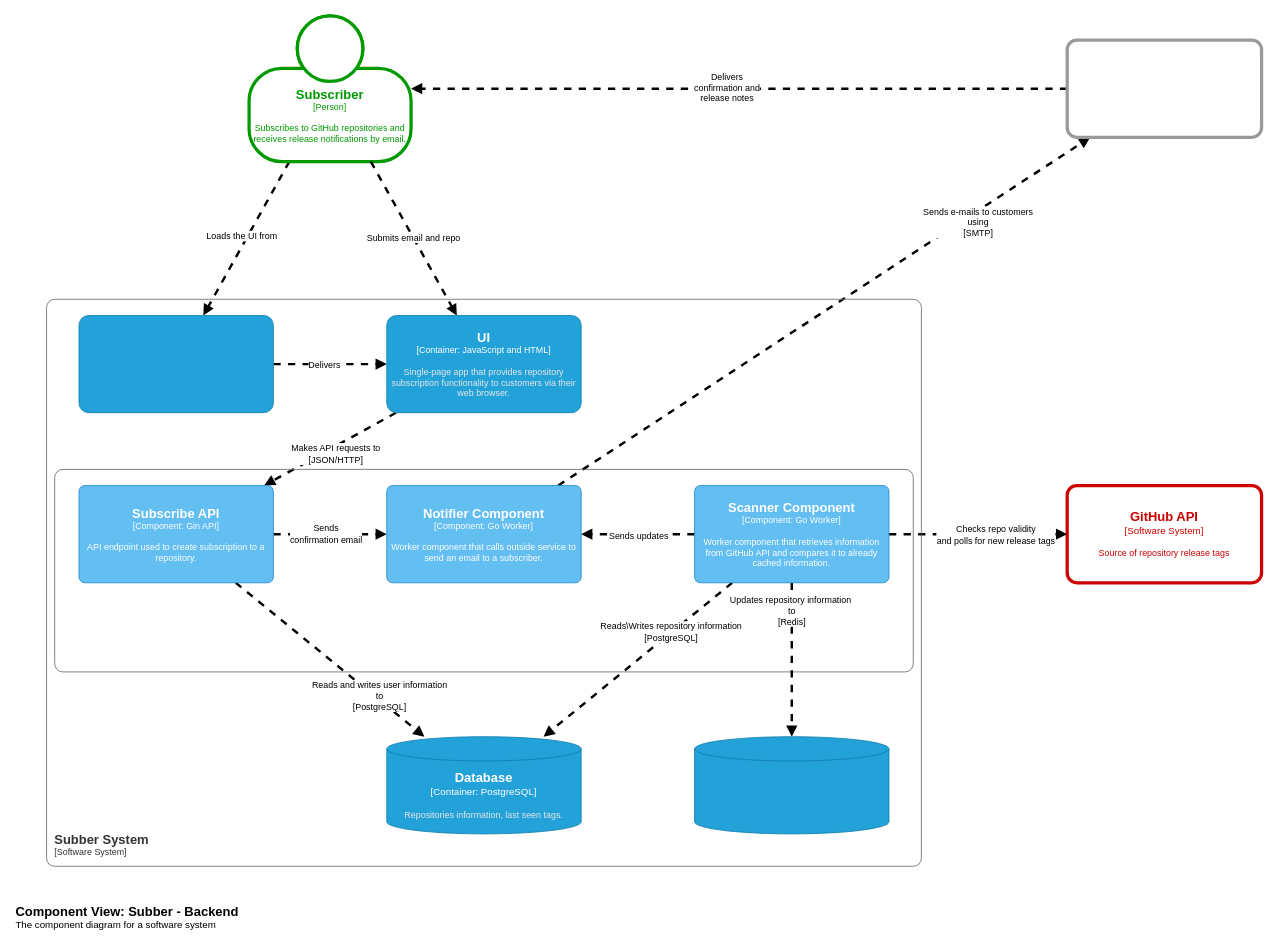
Some shapes in this 1277 by 945 pixel diagram are drawn without their labels. The shapes that lost their labels are listed below. From the top down, each one's box as (x1, y1, x2, y2) in pixels, then its label:
(1065, 38, 1263, 139): SMTP Server [Software System] Delivers emails to subscribers
(78, 315, 273, 413): Static Content [Container: Directory] HTML, CSS, JS
(54, 469, 913, 672): Backend [Container]
(694, 736, 889, 834): Cache [Container: Redis] Repository tags.
